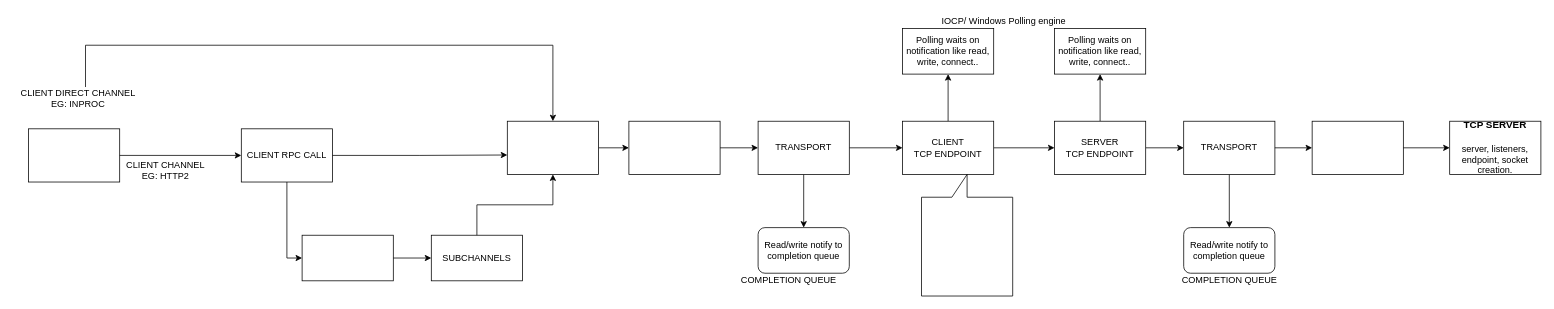
Image size: 1554x309. Some labels were removed from this diagram. The centre of each missing label's shape, as x and y in pixels:
"CHANNEL CREATION" goes at [74,155].
"HTTP2 CLIENT UTILITIES Handshake, Invoking transport functions" goes at [674,147].
"HTTP2 SERVER UTILITIES: Handshake, transport" goes at [1357,147].
"LOAD BALANCER" goes at [347,257].
"TCP CLIENT Initiates connect to server after creation of sockets" goes at [552,147].
"win_read win_write, add_to_pollset, shutdown, destoy" goes at [967,235].
